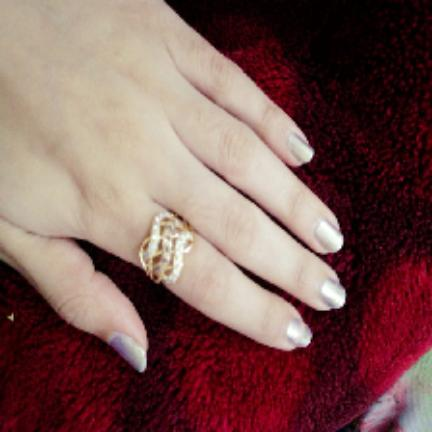Nail: (108, 332, 147, 372), (315, 219, 343, 252), (320, 278, 345, 309), (289, 134, 314, 163), (286, 318, 311, 347)
